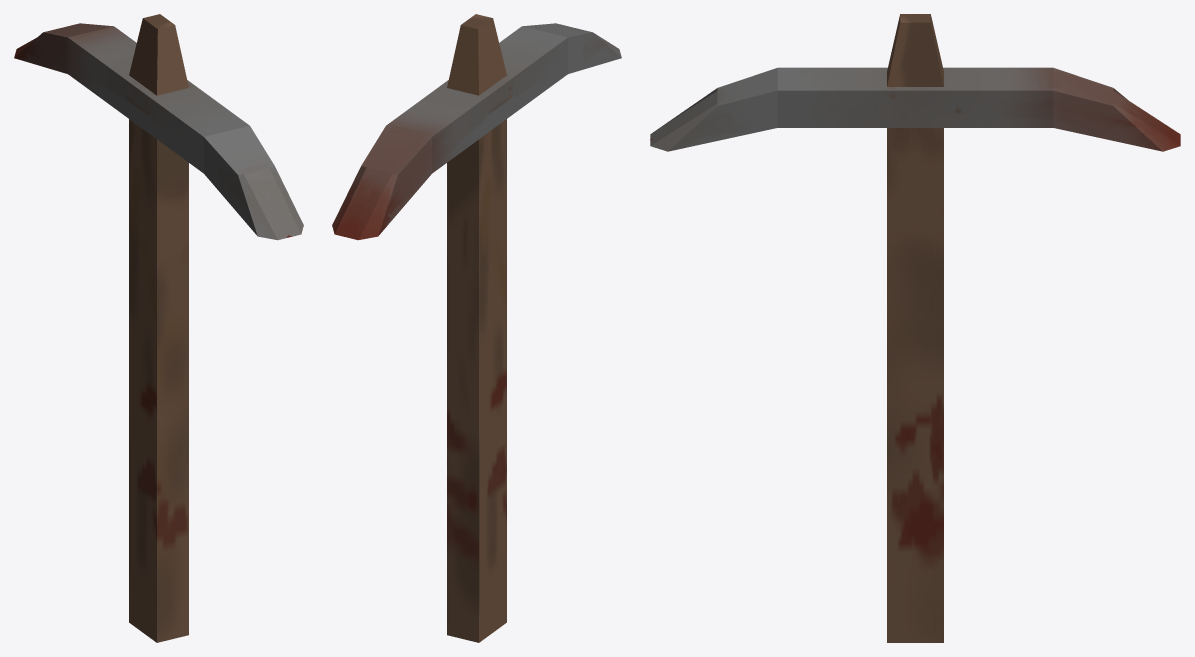
File: pijukukuk.glb
3 renders of one model, left to right at view 1: azimuth 30°, elevation 25°; view 2: azimuth 150°, elevation 25°; view 3: azimuth 270°, elevation 25°, orthographic.
Parts seen in each view (by area): view 1: Cube.032; view 2: Cube.032; view 3: Cube.032.
Boxes of the visible parts, x1=… form: Cube.032: x1=14, y1=14, x2=303, y2=642; Cube.032: x1=332, y1=14, x2=621, y2=642; Cube.032: x1=650, y1=14, x2=1180, y2=642.
Bounding box in the file's own units: 0.2058 × 2.59 × 2.02.
Materials: 2 (2 with a texture image).
